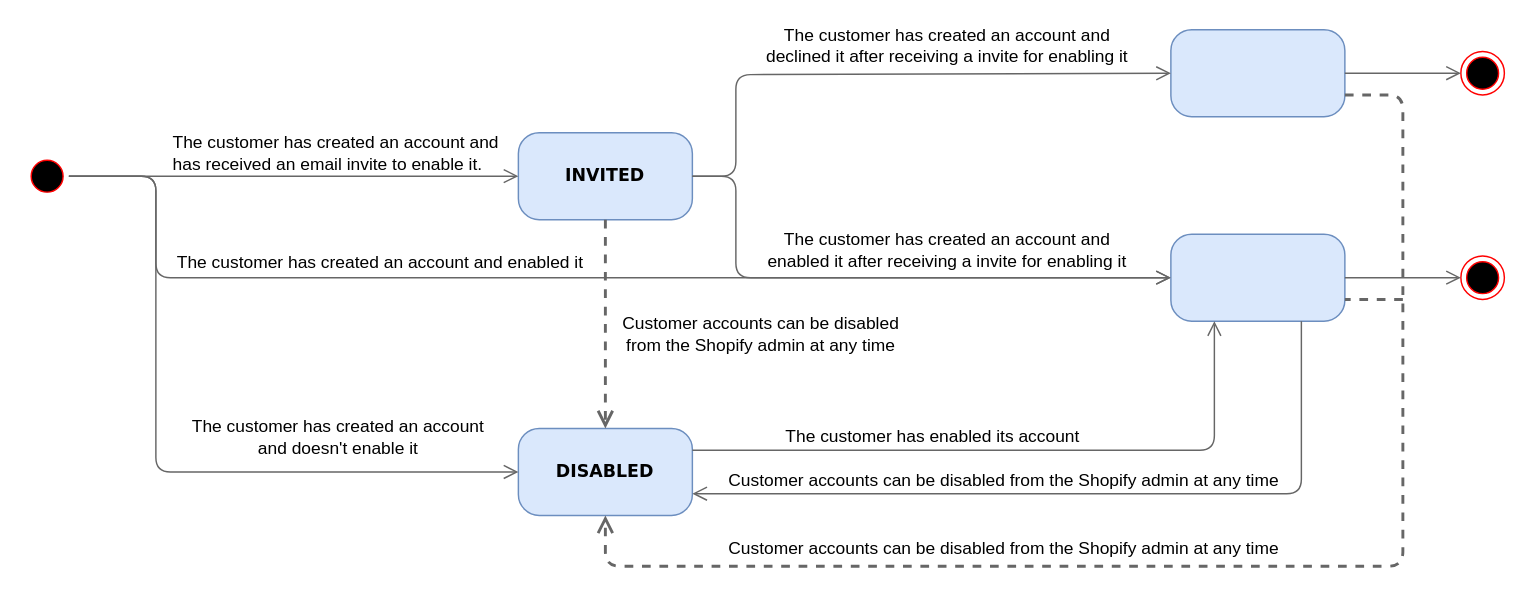
This 1530x608 diagram has some shape labels left out. Each missing label, with the centre of its shape:
"DECLINED" goes at (x=1257, y=72).
"ENABLED" goes at (x=1257, y=277).
